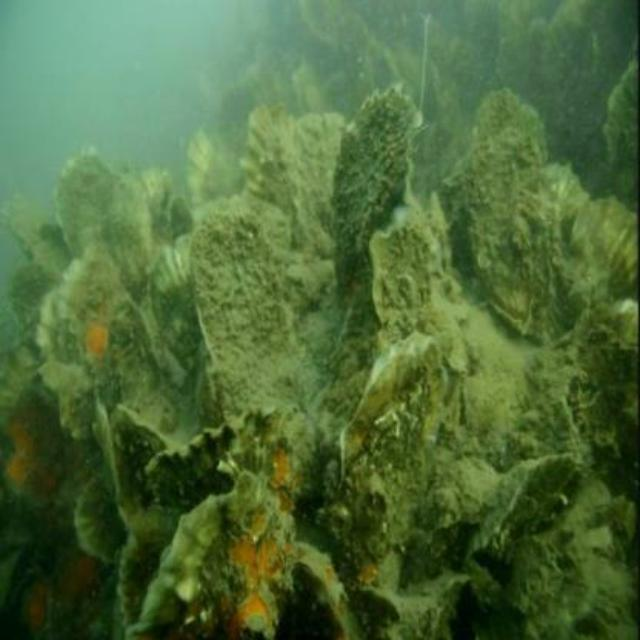Oyster-Closed: (337, 330, 447, 598), (131, 477, 295, 638), (462, 82, 559, 338), (36, 260, 169, 439), (191, 218, 302, 400), (333, 95, 423, 310), (367, 213, 468, 376), (144, 414, 300, 519), (56, 151, 121, 259), (296, 113, 345, 253), (238, 106, 296, 212), (76, 475, 125, 558)
